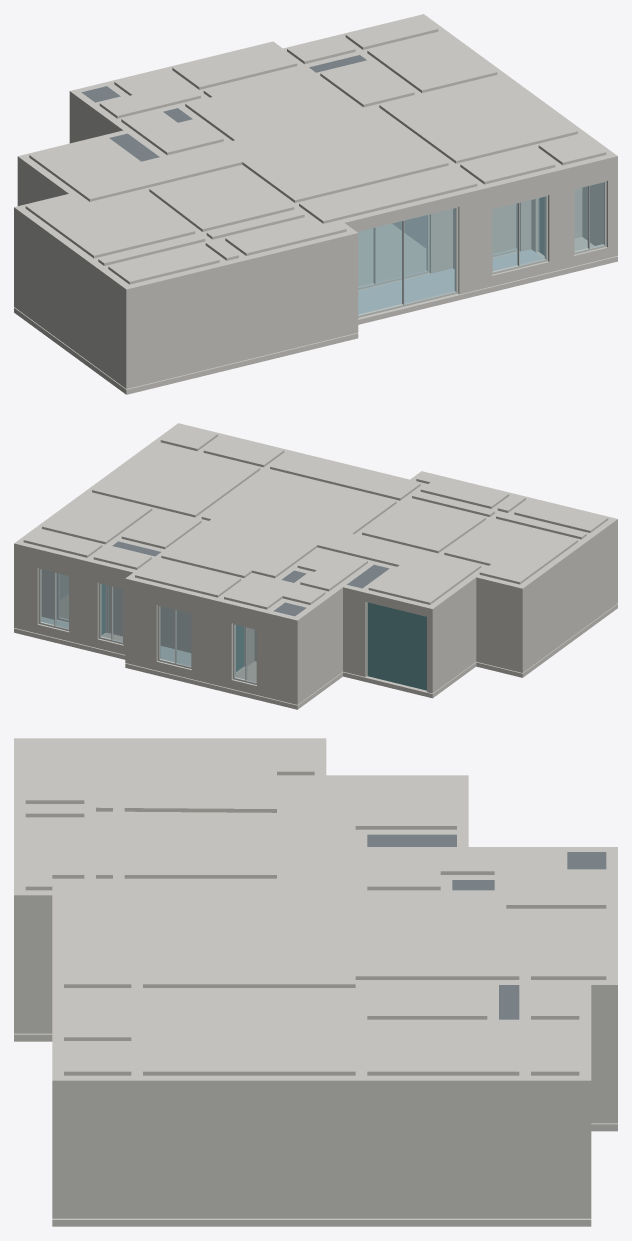
File: acro112a-basic-archisketch.glb
The picture shows the model from 3 angles, top to bottom: view 1: azimuth 30°, elevation 25°; view 2: azimuth 150°, elevation 25°; view 3: azimuth 270°, elevation 25°; orthographic projection. The views are drawn at different scales.
Visible parts, largest first — view 1: Ceiling/02, Wall/layer-01/00, Wall/layer-06/00, Ceiling/15, Ceiling/03, Ceiling/04, Ceiling/13, sliding-23/glass-1, Ceiling/16, Base/00, Wall/layer-00/00, Wall/layer-01/01 (+34 smaller); view 2: Ceiling/02, Wall/layer-06/00, Wall/layer-01/00, Ceiling/15, Wall/layer-01/07, Ceiling/03, door-00/leaf, Wall/layer-00/01, Ceiling/04, Wall/layer-01/05, Base/00, Ceiling/13 (+32 smaller); view 3: Wall/layer-01/03, Ceiling/02, Wall/layer-06/00, Ceiling/15, Ceiling/03, Ceiling/04, Wall/layer-00/01, Ceiling/13, Ceiling/16, Base/00, Ceiling/10, Wall/layer-04/01 (+20 smaller).
Boxes of the visible parts, x1,y1,x2,y2 form: Ceiling/02: [29, 66, 448, 202]; Wall/layer-01/00: [14, 180, 358, 378]; Wall/layer-06/00: [14, 14, 617, 300]; Ceiling/15: [379, 75, 577, 163]; Ceiling/03: [25, 190, 195, 258]; Ceiling/04: [149, 167, 294, 231]; Ceiling/13: [367, 32, 497, 92]; sliding-23/glass-1: [404, 208, 455, 303]; Ceiling/16: [299, 166, 477, 223]; Base/00: [14, 251, 617, 394]; Wall/layer-00/00: [14, 296, 358, 388]; Wall/layer-01/01: [404, 208, 491, 283]; Ceiling/02: [161, 469, 481, 604]; Wall/layer-06/00: [14, 423, 617, 629]; Wall/layer-01/00: [427, 539, 617, 684]; Ceiling/15: [92, 442, 260, 517]; Wall/layer-01/07: [245, 607, 366, 695]; Ceiling/03: [444, 519, 577, 584]; door-00/leaf: [367, 602, 426, 690]; Wall/layer-00/01: [14, 585, 366, 704]; Ceiling/04: [362, 498, 485, 553]; Wall/layer-01/05: [106, 585, 191, 661]; Base/00: [14, 604, 617, 709]; Ceiling/13: [42, 492, 152, 544]; Wall/layer-01/03: [52, 1113, 591, 1204]; Ceiling/02: [143, 776, 519, 987]; Wall/layer-06/00: [14, 738, 617, 1095]; Ceiling/15: [143, 989, 355, 1075]; Ceiling/03: [124, 739, 314, 812]; Ceiling/04: [124, 813, 276, 878]; Wall/layer-00/01: [52, 1108, 617, 1218]; Ceiling/13: [367, 1021, 519, 1075]; Ceiling/16: [64, 880, 131, 987]; Base/00: [14, 1033, 617, 1226]; Ceiling/10: [531, 910, 606, 979]; Wall/layer-04/01: [52, 1001, 617, 1104].
Bounding box in the file's own units: 13.8 × 2.82 × 10.29.
